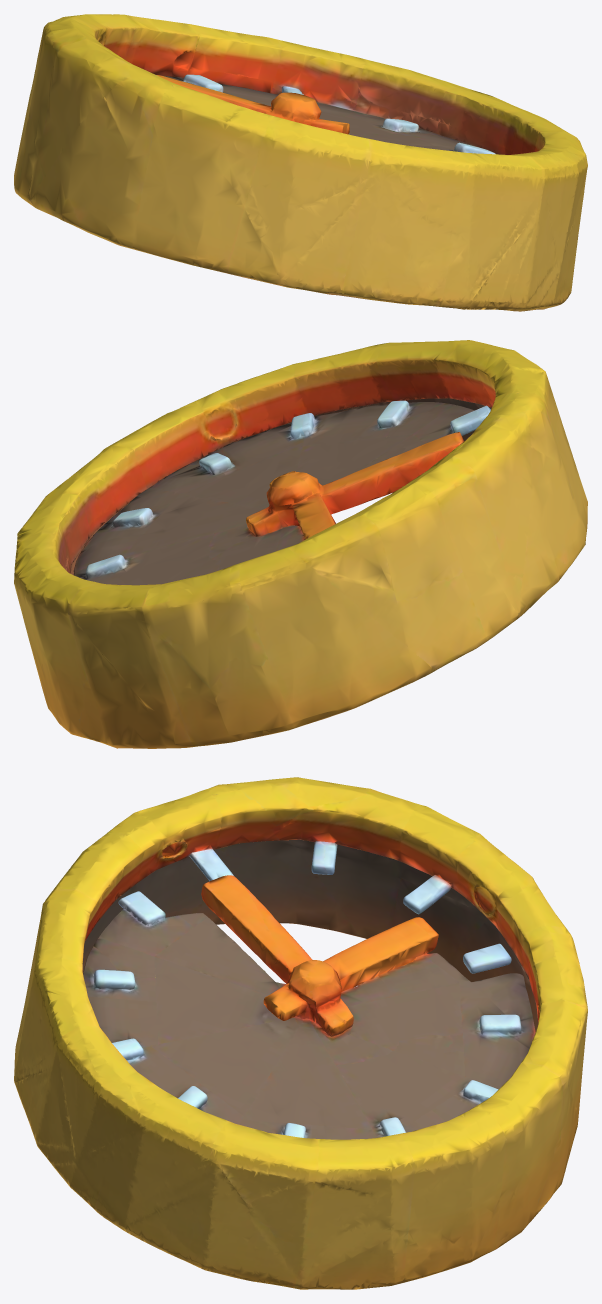
The model's file is bg_wall_clock.glb.
3 renders of one model, top to bottom at view 1: azimuth 30°, elevation 25°; view 2: azimuth 150°, elevation 25°; view 3: azimuth 270°, elevation 25°, orthographic.
Visible parts, largest first — view 1: tripo_node_95c65a92-d3bf-4855-88e9-79ef4b075503; view 2: tripo_node_95c65a92-d3bf-4855-88e9-79ef4b075503; view 3: tripo_node_95c65a92-d3bf-4855-88e9-79ef4b075503.
Boxes of the visible parts, x1,y1,x2,y2 form: tripo_node_95c65a92-d3bf-4855-88e9-79ef4b075503: [14, 14, 587, 311]; tripo_node_95c65a92-d3bf-4855-88e9-79ef4b075503: [14, 340, 587, 748]; tripo_node_95c65a92-d3bf-4855-88e9-79ef4b075503: [14, 777, 587, 1289].
Size of the model in its own units: 1 by 0.6021 by 1.
1 material, 1 textured.
